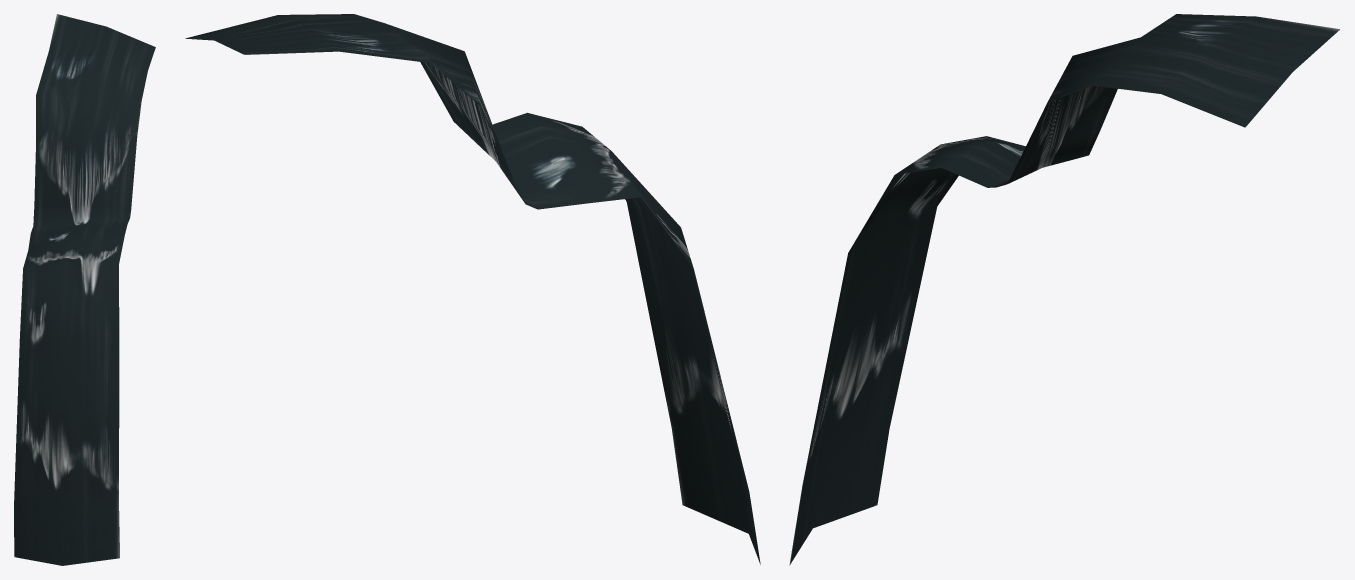
File: water_1.fbx
The picture shows the model from 3 angles, left to right: view 1: azimuth 30°, elevation 25°; view 2: azimuth 150°, elevation 25°; view 3: azimuth 270°, elevation 25°; orthographic projection. The views are drawn at different scales.
Parts seen in each view (by area): view 1: pPlane1; view 2: pPlane1; view 3: pPlane1.
Part boxes in pixels (<box>): pPlane1: <box>14,14,155,565</box>; pPlane1: <box>185,14,760,564</box>; pPlane1: <box>789,14,1339,565</box>.
Size of the model in its own units: 145 by 211 by 169.
